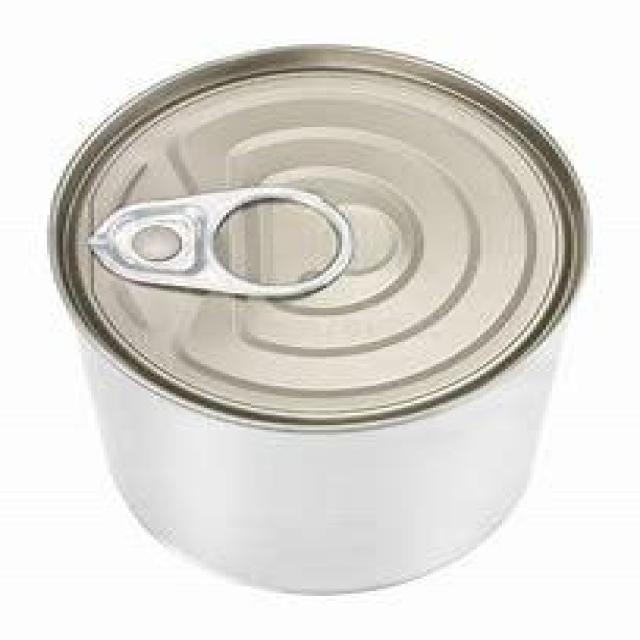can: (44, 42, 594, 597)
pop tab: (88, 186, 357, 302)
